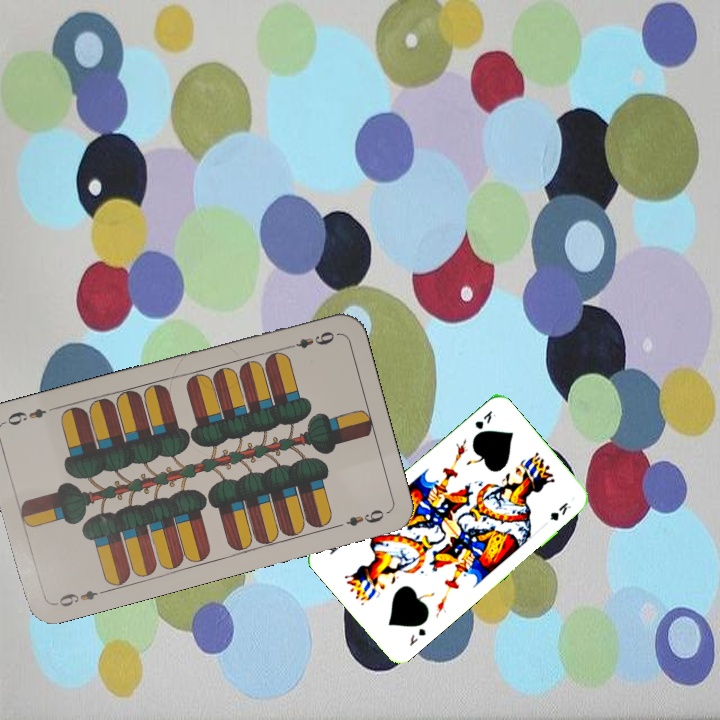E9: (282, 327, 340, 352), (51, 585, 109, 610)
GK: (471, 407, 498, 432), (405, 624, 429, 649)
